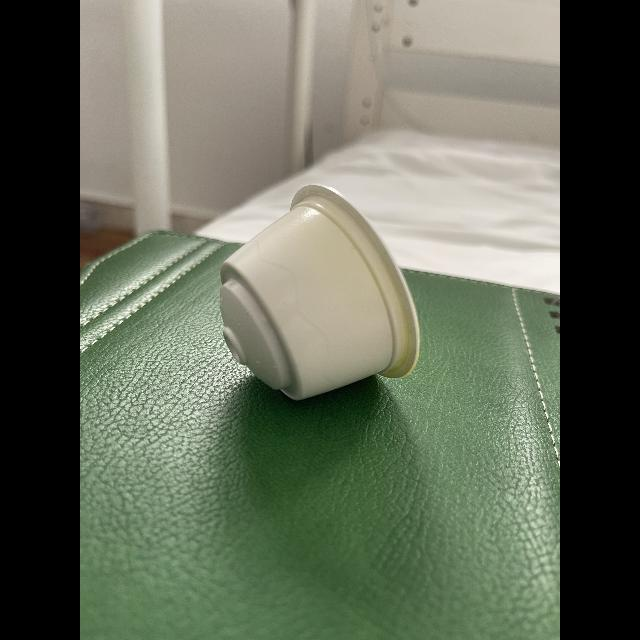intact_capsule: (212, 176, 432, 412)
